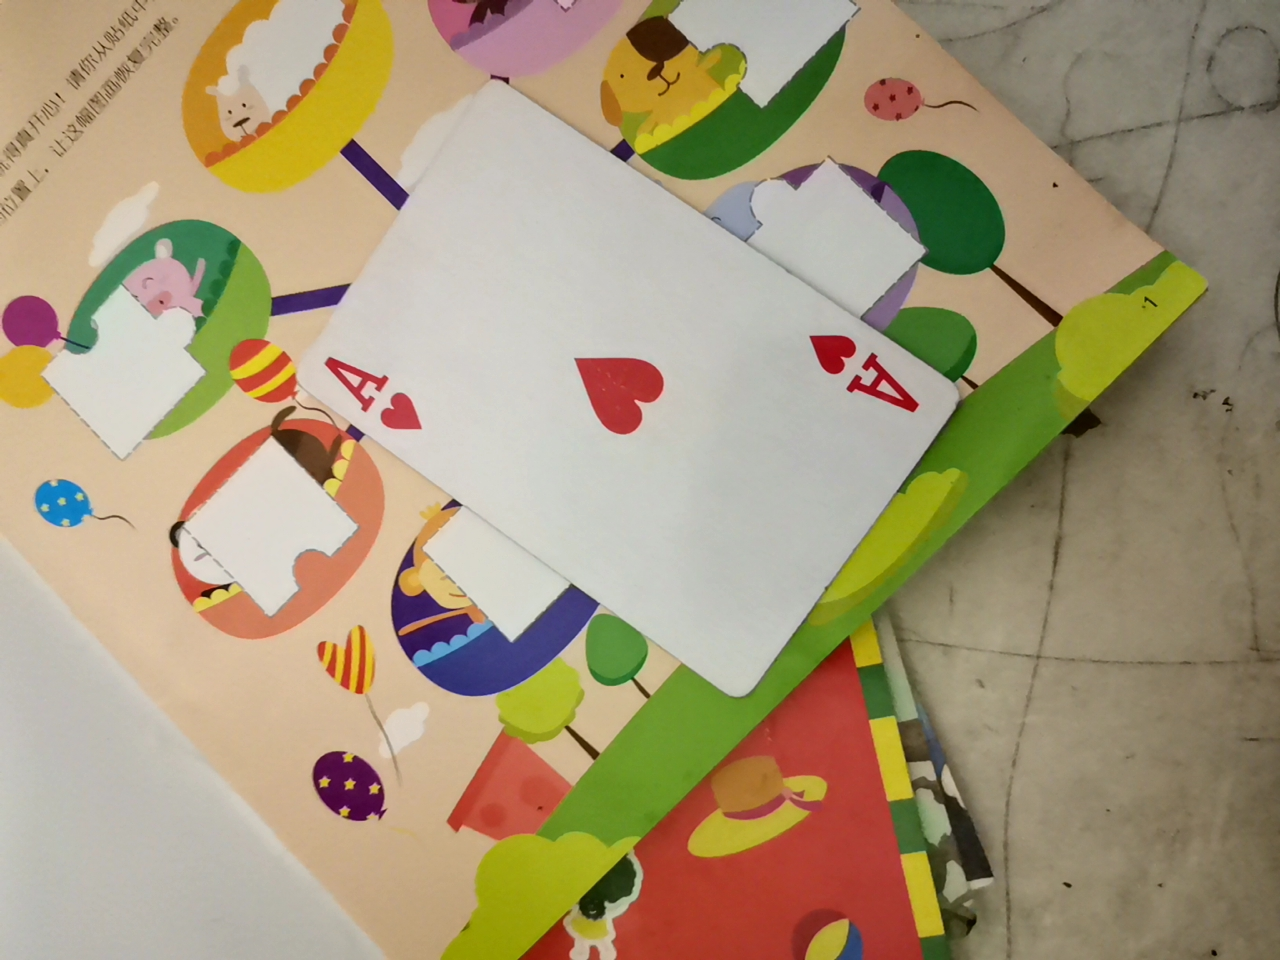hx a: (332, 45, 971, 700)
